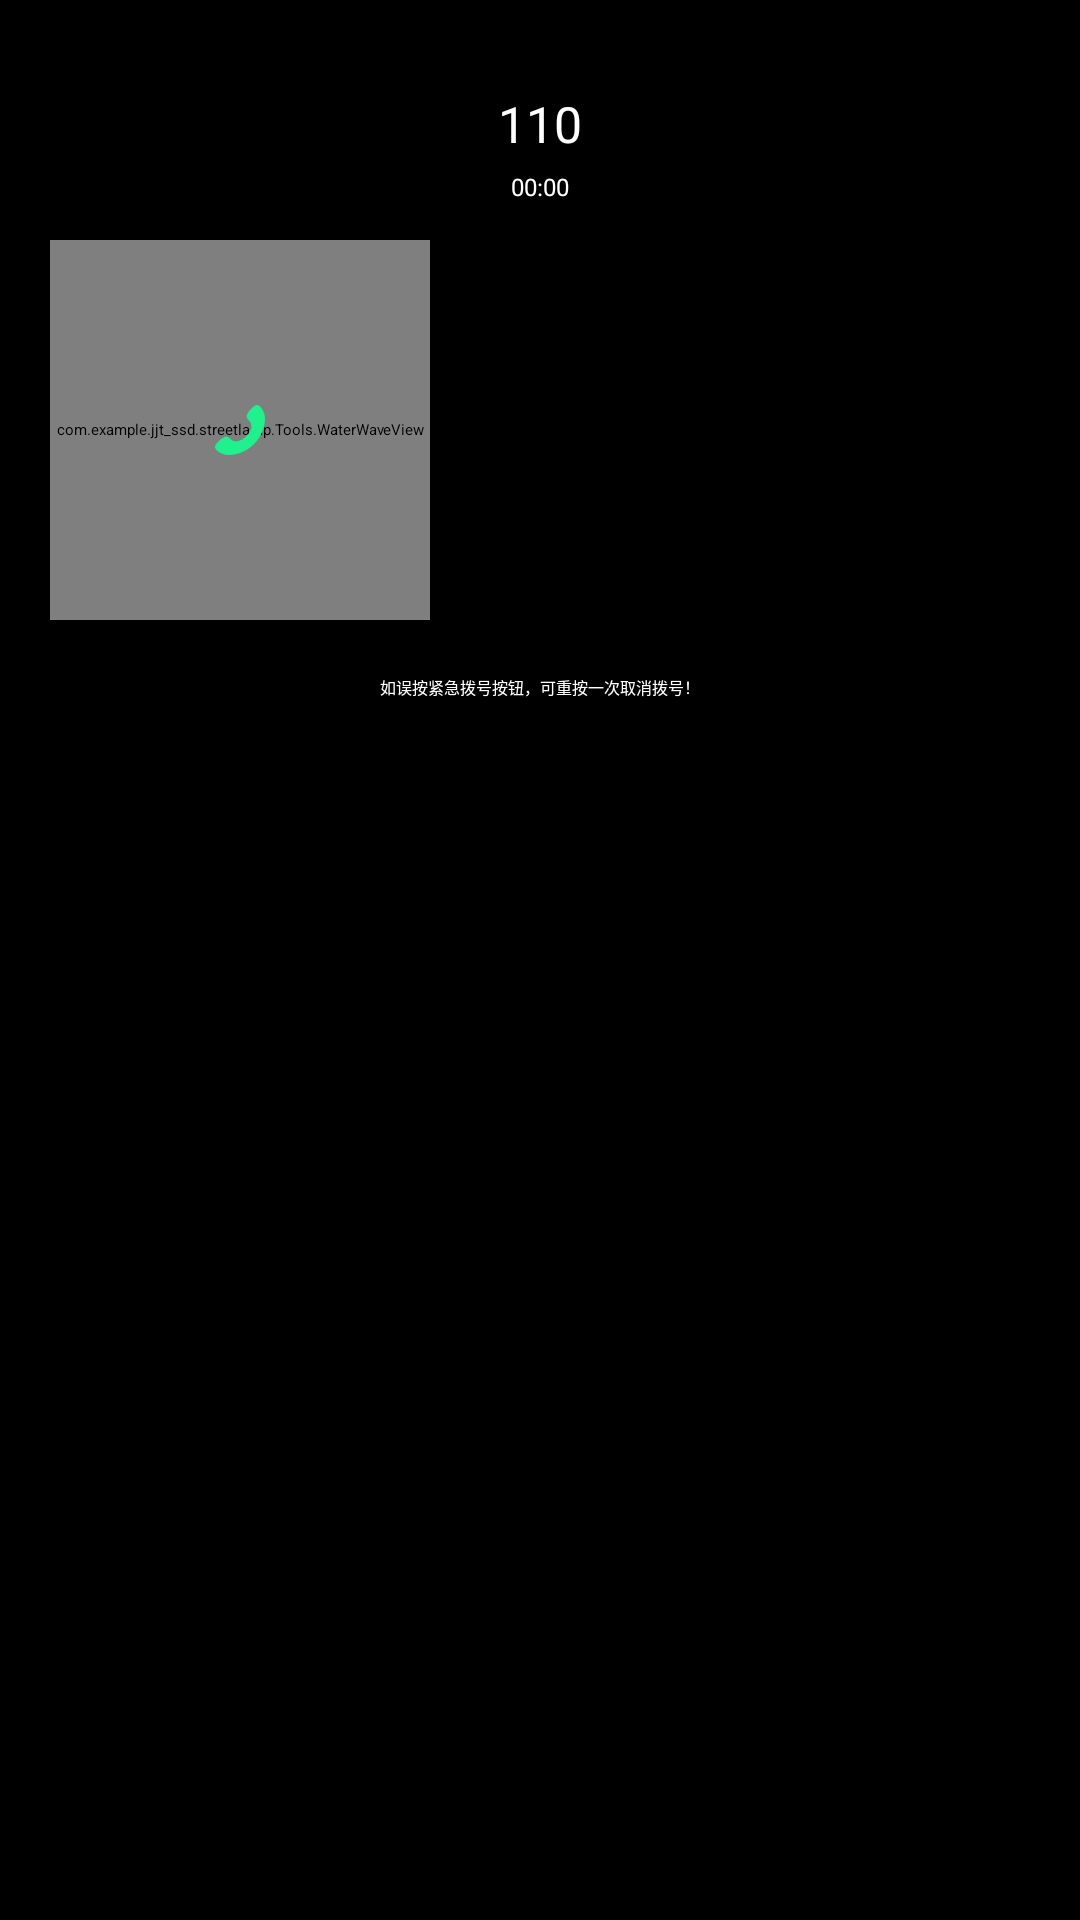

Where icons sit on this 1080w x 1920h app screen, as [x1,y1,x2,y2]:
phone: [215,405,265,455]
